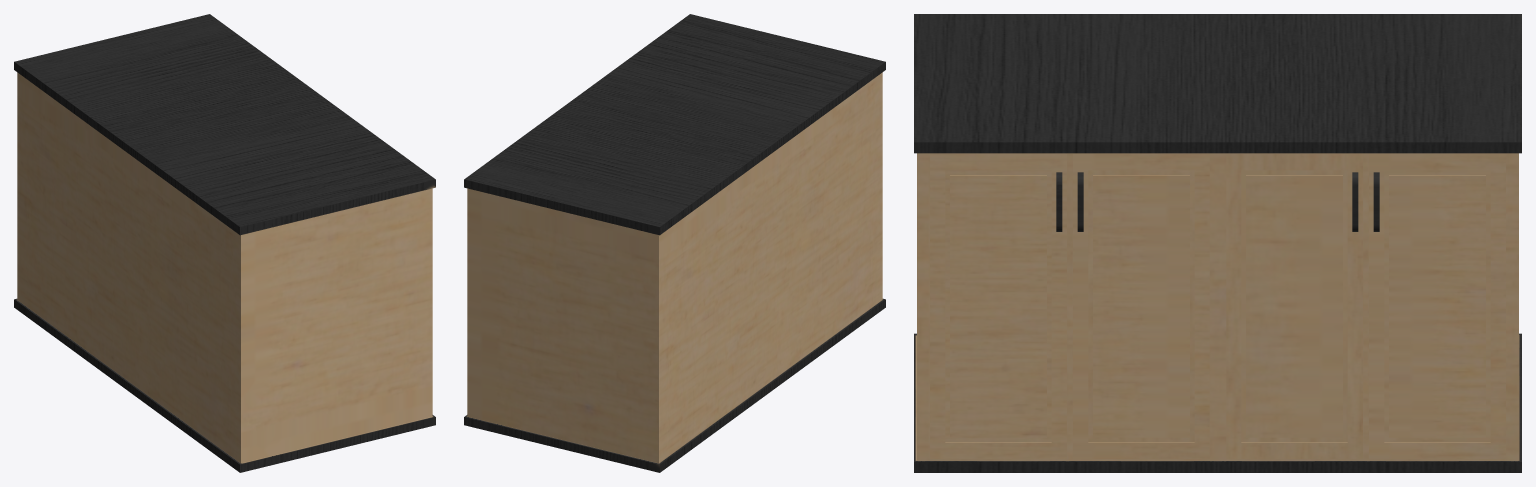
The model's file is double_stand.obj.
The picture shows the model from 3 angles, left to right: view 1: azimuth 30°, elevation 25°; view 2: azimuth 150°, elevation 25°; view 3: azimuth 270°, elevation 25°; orthographic projection. The views are drawn at different scales.
Parts seen in each view (by area): view 1: double_stand; view 2: double_stand; view 3: double_stand, hatch_3, hatch_4, hatch_2, hatch_1.
Boxes of the visible parts, left/top/right/bottom form: double_stand: left=14, top=14, right=435, bottom=472; double_stand: left=464, top=14, right=885, bottom=472; double_stand: left=914, top=14, right=1521, bottom=472; hatch_3: left=1226, top=154, right=1362, bottom=458; hatch_4: left=1369, top=154, right=1505, bottom=458; hatch_2: left=1073, top=154, right=1209, bottom=458; hatch_1: left=930, top=154, right=1066, bottom=458.
Bounding box in the file's own units: 0.6147 × 0.72 × 1.2.
Materials: 1 (1 with a texture image).
